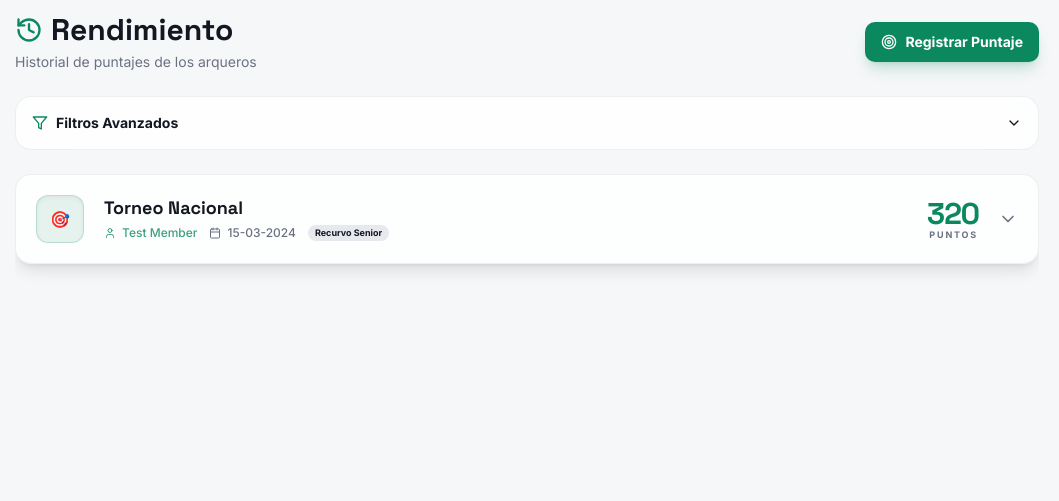
Scenario: ScoresPage › should expand score details on click
The image size is (1059, 501).
Step 1. Click the button "Torneo Nacional" → (60, 219), box [16, 175, 1038, 263]
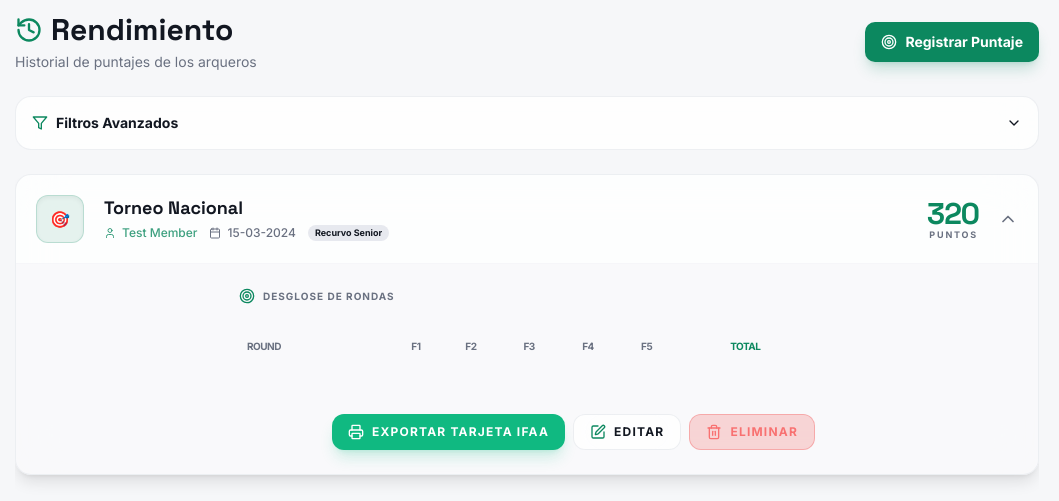
Check: the text "Desglose de rondas" is shown, box [263, 288, 395, 304]
